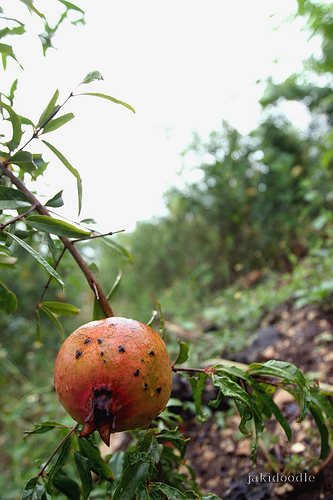pomogranate: (51, 315, 176, 447)
